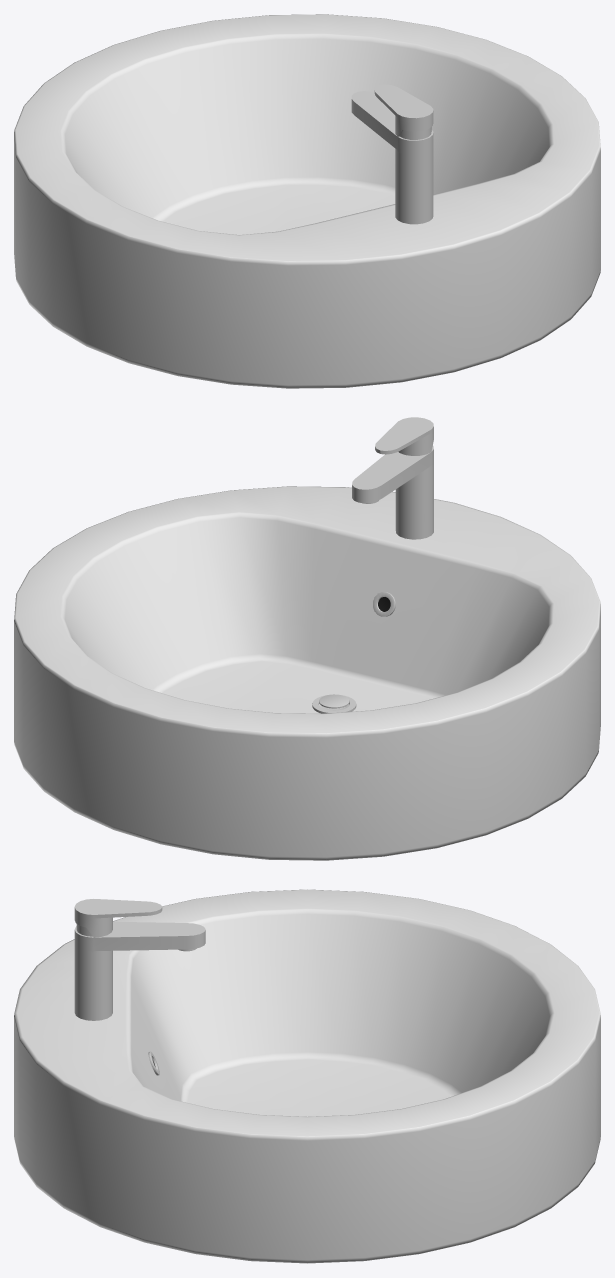
File: WashBasin02.fbx
The picture shows the model from 3 angles, top to bottom: view 1: azimuth 30°, elevation 25°; view 2: azimuth 150°, elevation 25°; view 3: azimuth 270°, elevation 25°; orthographic projection.
Visible parts, largest first — view 1: WashBasin02, Faucet02, FaucetLever02; view 2: WashBasin02, Faucet02, FaucetLever02; view 3: WashBasin02, Faucet02, FaucetLever02.
Boxes of the visible parts, <box> form: WashBasin02: <box>14,14,600,388</box>; Faucet02: <box>351,91,433,224</box>; FaucetLever02: <box>374,84,433,136</box>; WashBasin02: <box>14,486,600,860</box>; Faucet02: <box>352,445,433,539</box>; FaucetLever02: <box>375,417,433,455</box>; WashBasin02: <box>14,889,600,1263</box>; Faucet02: <box>74,921,205,1020</box>; FaucetLever02: <box>74,899,162,937</box>.
Bounding box in the file's own units: 70.16 × 30.74 × 70.16.
